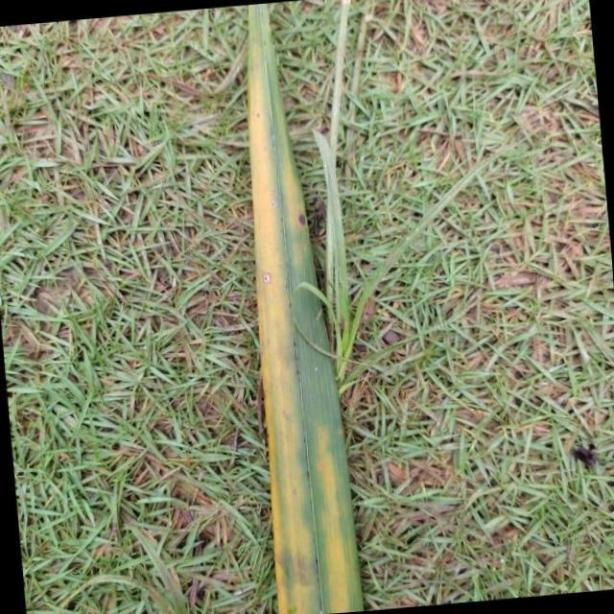Megnesium: (239, 0, 366, 612)
